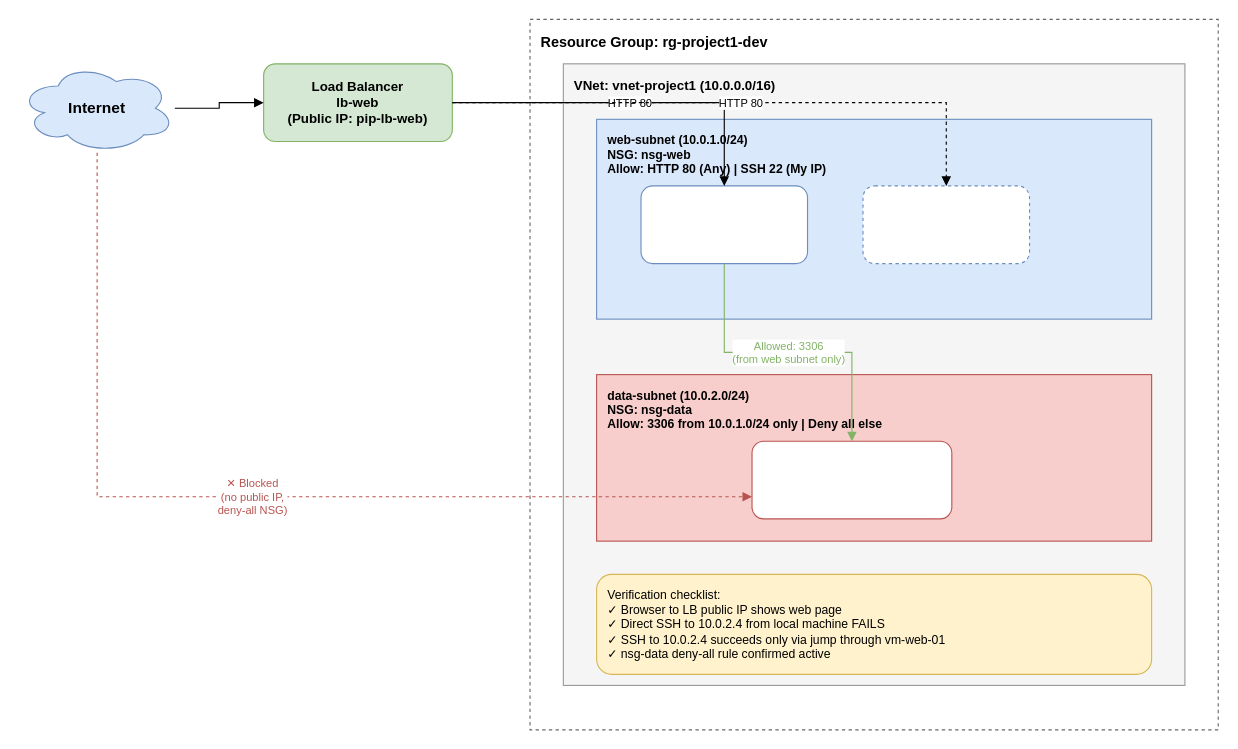
Image size: 1238x749. Some labels were removed from this diagram. The centre of each missing label's shape, as x and y in pixels:
vm-data-01 (No public IP) Private IP: 10.0.2.4: (x=851, y=479)
vm-web-01 (Nginx): (x=724, y=224)
vm-web-02 (Nginx, optional): (x=946, y=224)
